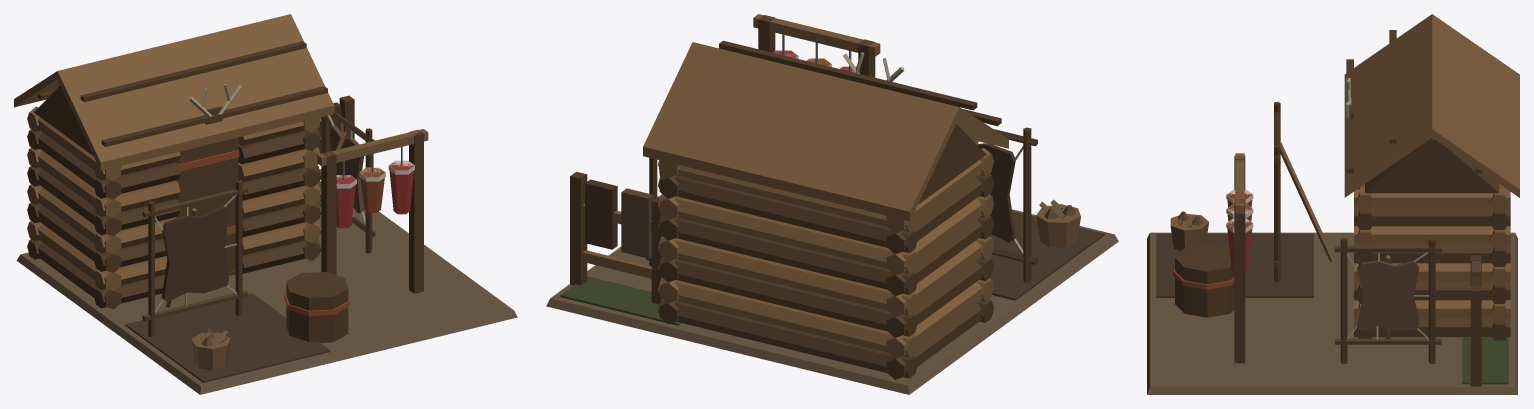
File: hunting_lodge_l2.glb
3 views of the same model, side by side, from view 1: azimuth 30°, elevation 25°; view 2: azimuth 150°, elevation 25°; view 3: azimuth 270°, elevation 25° (orthographic). The views are drawn at different scales.
Visible parts, largest first — view 1: hunting_lodge_l2_mesh; view 2: hunting_lodge_l2_mesh; view 3: hunting_lodge_l2_mesh.
Part boxes in pixels (bbox=[...]): hunting_lodge_l2_mesh: bbox=[14, 14, 517, 394]; hunting_lodge_l2_mesh: bbox=[546, 14, 1118, 394]; hunting_lodge_l2_mesh: bbox=[1147, 14, 1519, 394].
Bounding box in the file's own units: 4.02 × 2.66 × 4.02.
